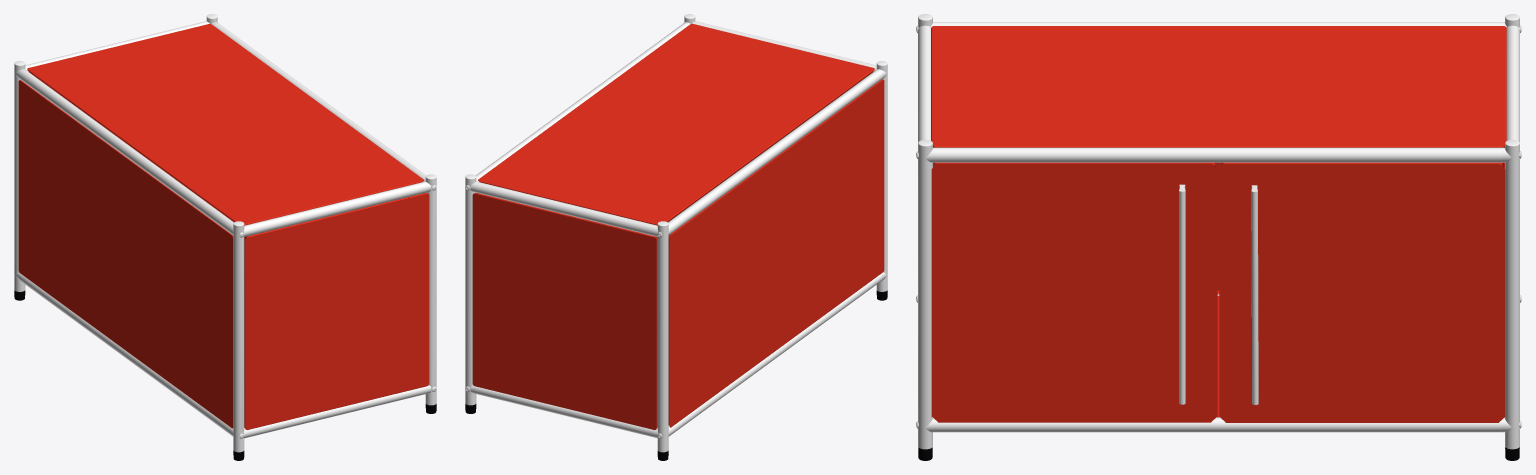
Rendered from 80x40x40-1-6-red_optimized_optimized.glb.
3 views of the same model, side by side, from view 1: azimuth 30°, elevation 25°; view 2: azimuth 150°, elevation 25°; view 3: azimuth 270°, elevation 25° (orthographic). The views are drawn at different scales.
Visible parts, largest first — view 1: 直角鐵板-80x40-5 - 零件, new-上塞-1 - 零件; view 2: 直角鐵板-80x40-5 - 零件, new-上塞-1 - 零件; view 3: 直角鐵板-80x40-5 - 零件, new-上塞-1 - 零件.
Boxes of the visible parts, left/top/right/bottom form: 直角鐵板-80x40-5 - 零件: left=18, top=23, right=429, bottom=429; new-上塞-1 - 零件: left=14, top=14, right=436, bottom=452; 直角鐵板-80x40-5 - 零件: left=472, top=23, right=884, bottom=429; new-上塞-1 - 零件: left=465, top=14, right=887, bottom=452; 直角鐵板-80x40-5 - 零件: left=931, top=26, right=1506, bottom=422; new-上塞-1 - 零件: left=916, top=14, right=1521, bottom=449.
Size of the model in its own units: 0.4203 by 0.4453 by 0.7732.
